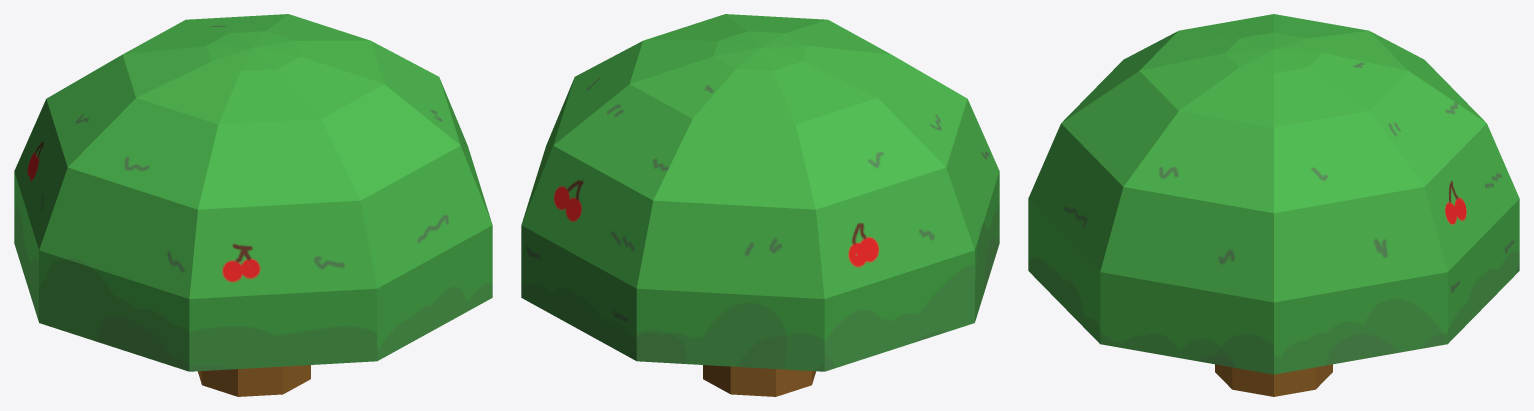
Rendered from object6_smalltree.fbx.
3 views of the same model, side by side, from view 1: azimuth 30°, elevation 25°; view 2: azimuth 150°, elevation 25°; view 3: azimuth 270°, elevation 25° (orthographic).
Parts seen in each view (by area): view 1: Cylinder; view 2: Cylinder; view 3: Cylinder.
Part boxes in pixels (left/top/right/bottom): Cylinder: left=14, top=14, right=492, bottom=396; Cylinder: left=521, top=14, right=999, bottom=396; Cylinder: left=1028, top=14, right=1519, bottom=396.
Bounding box in the file's own units: 214 × 155 × 214.
